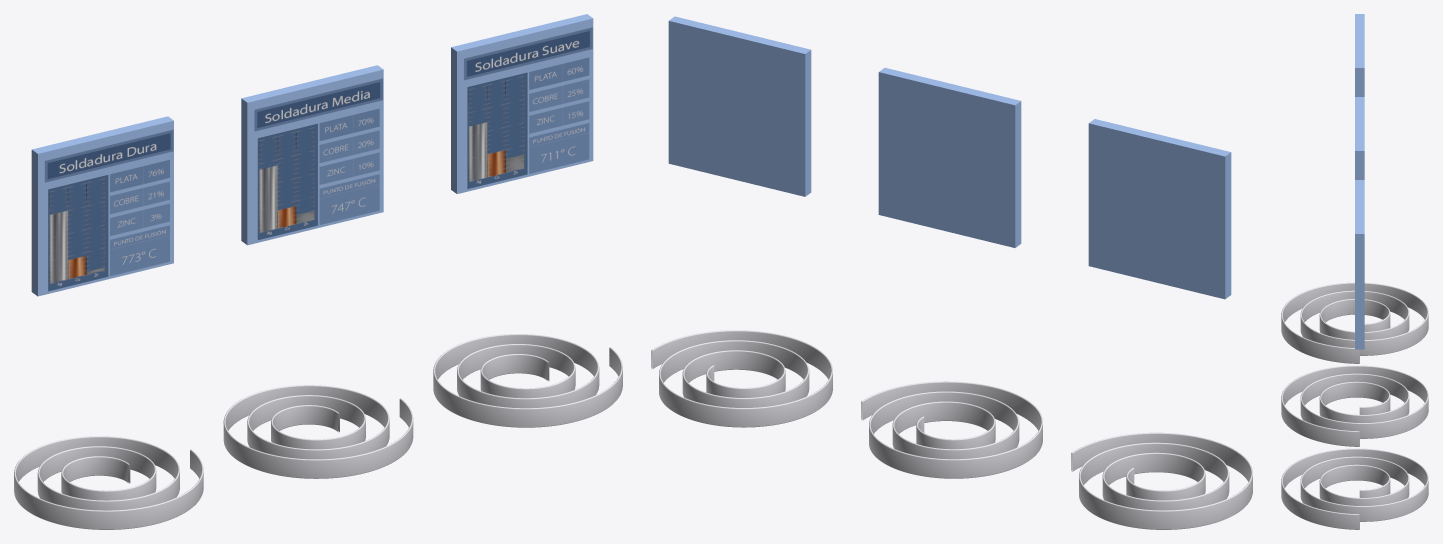
Rendered from Soldaduras.glb.
3 renders of one model, left to right at view 1: azimuth 30°, elevation 25°; view 2: azimuth 150°, elevation 25°; view 3: azimuth 270°, elevation 25°, orthographic. The views are drawn at different scales.
Visible parts, largest first — view 1: espiral_100_Placa, espiral_70_Placa, espiral_85_Placa, espiral_85_PNG, espiral_100_PNG, espiral_70_PNG, espiral_85, espiral_70, espiral_100; view 2: espiral_100_Placa, espiral_70_Placa, espiral_85_Placa, espiral_70, espiral_85, espiral_100; view 3: espiral_70, espiral_85, espiral_100, espiral_70_Placa, espiral_100_Placa, espiral_85_Placa.
Boxes of the visible parts, <box> form: espiral_100_Placa: <box>31,116,173,296</box>; espiral_70_Placa: <box>451,14,593,193</box>; espiral_85_Placa: <box>241,65,383,245</box>; espiral_85_PNG: <box>254,78,382,240</box>; espiral_100_PNG: <box>44,129,173,291</box>; espiral_70_PNG: <box>464,27,592,188</box>; espiral_85: <box>223,385,413,478</box>; espiral_70: <box>433,334,622,427</box>; espiral_100: <box>14,436,203,529</box>; espiral_100_Placa: <box>1088,119,1231,299</box>; espiral_70_Placa: <box>668,16,811,196</box>; espiral_85_Placa: <box>878,67,1021,247</box>; espiral_70: <box>651,330,832,427</box>; espiral_85: <box>861,381,1042,478</box>; espiral_100: <box>1071,432,1252,529</box>; espiral_70: <box>1281,448,1428,529</box>; espiral_85: <box>1281,365,1428,446</box>; espiral_100: <box>1281,282,1428,363</box>; espiral_70_Placa: <box>1355,180,1364,349</box>; espiral_100_Placa: <box>1355,14,1364,96</box>; espiral_85_Placa: <box>1355,97,1364,179</box>.
Size of the model in its own units: 0.2799 by 0.1619 by 0.0751.
9 materials, 3 textured.
